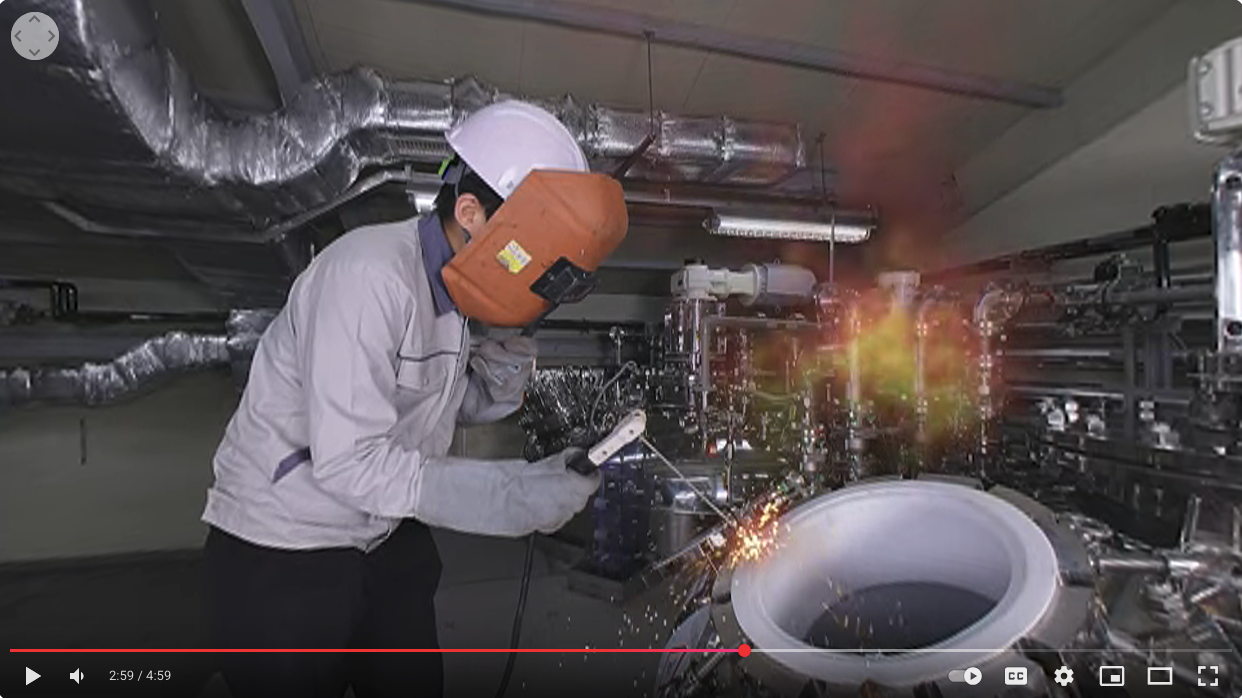fire: (745, 209, 1074, 484)
